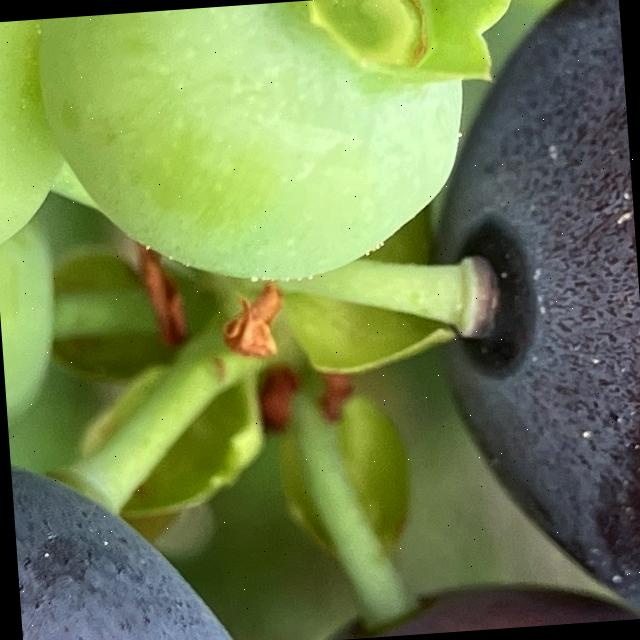Blueberries: (32, 0, 559, 303), (423, 0, 640, 630)
